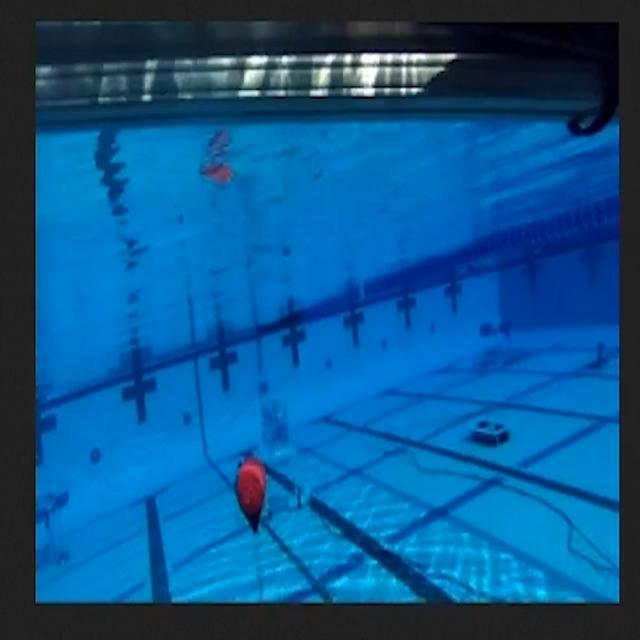Buoy: (229, 458, 274, 537)
